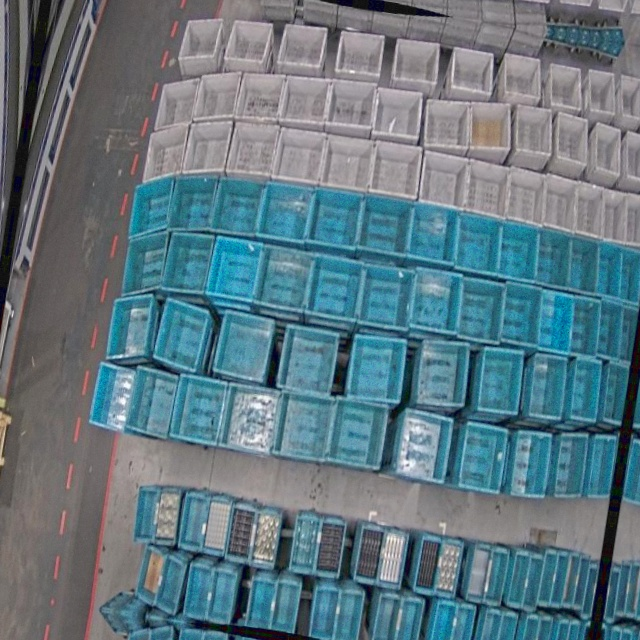Box: (275, 322, 342, 400), (344, 330, 410, 407), (211, 307, 276, 385), (220, 382, 284, 459), (151, 295, 212, 375), (301, 251, 366, 325), (252, 242, 316, 317), (393, 408, 455, 485), (324, 396, 387, 471), (169, 371, 230, 448), (413, 337, 472, 413), (121, 364, 179, 441), (276, 390, 335, 465), (303, 184, 366, 254), (354, 260, 415, 332), (203, 233, 263, 306), (159, 227, 217, 300), (256, 178, 316, 248), (353, 192, 413, 261), (208, 171, 266, 241), (164, 168, 221, 239), (407, 267, 465, 336), (223, 117, 280, 187), (138, 119, 193, 191), (403, 201, 462, 268), (271, 125, 329, 193), (456, 420, 509, 494), (472, 345, 526, 417), (120, 227, 170, 303), (105, 289, 153, 367), (455, 276, 509, 345), (85, 362, 137, 433), (127, 169, 175, 245), (449, 210, 504, 276), (182, 115, 236, 182), (419, 94, 477, 155), (319, 131, 376, 193), (368, 139, 425, 201), (369, 84, 426, 146), (416, 149, 472, 211), (322, 74, 378, 136), (506, 428, 555, 498), (278, 70, 334, 131), (232, 67, 288, 127), (497, 281, 546, 349), (190, 65, 242, 127), (492, 220, 542, 284), (525, 352, 571, 421), (497, 49, 549, 110), (464, 97, 518, 155), (461, 159, 513, 219), (152, 72, 199, 136), (503, 166, 551, 227), (540, 59, 590, 117), (551, 431, 592, 501), (532, 290, 576, 355), (537, 174, 582, 235), (530, 227, 574, 289), (566, 357, 605, 424), (567, 182, 610, 242), (562, 234, 604, 295), (334, 28, 386, 77), (391, 37, 443, 86), (276, 22, 328, 70), (511, 104, 558, 157), (177, 13, 224, 65), (593, 188, 635, 246), (565, 296, 603, 358), (224, 17, 274, 64), (598, 361, 633, 427), (449, 48, 498, 95), (551, 112, 594, 165), (289, 511, 324, 576), (175, 489, 210, 553), (587, 434, 620, 501), (150, 483, 184, 548), (224, 502, 259, 565), (247, 505, 281, 569), (592, 239, 628, 299), (200, 494, 234, 557), (313, 515, 346, 579), (589, 122, 627, 177), (592, 300, 626, 361), (352, 522, 385, 584), (154, 554, 187, 616), (129, 485, 162, 547), (376, 527, 408, 589), (608, 71, 640, 132), (413, 533, 444, 595), (134, 545, 165, 607), (182, 563, 214, 621), (582, 68, 622, 114), (307, 585, 340, 640), (435, 536, 464, 598), (207, 571, 238, 628), (245, 575, 277, 630), (465, 541, 492, 602), (271, 581, 302, 634), (334, 591, 366, 640), (485, 545, 511, 605), (521, 553, 546, 613), (371, 593, 402, 640), (549, 548, 572, 608), (537, 547, 560, 607), (616, 246, 640, 303), (509, 548, 532, 607), (394, 597, 425, 640), (561, 551, 583, 609), (572, 554, 593, 612), (619, 130, 640, 185), (429, 601, 458, 640), (580, 562, 599, 620), (448, 601, 476, 640), (620, 193, 640, 247), (476, 608, 504, 640), (493, 610, 519, 640), (516, 613, 540, 640), (531, 615, 554, 640), (550, 618, 572, 640), (560, 620, 581, 640), (576, 622, 591, 640), (637, 82, 640, 140), (639, 194, 640, 248)
